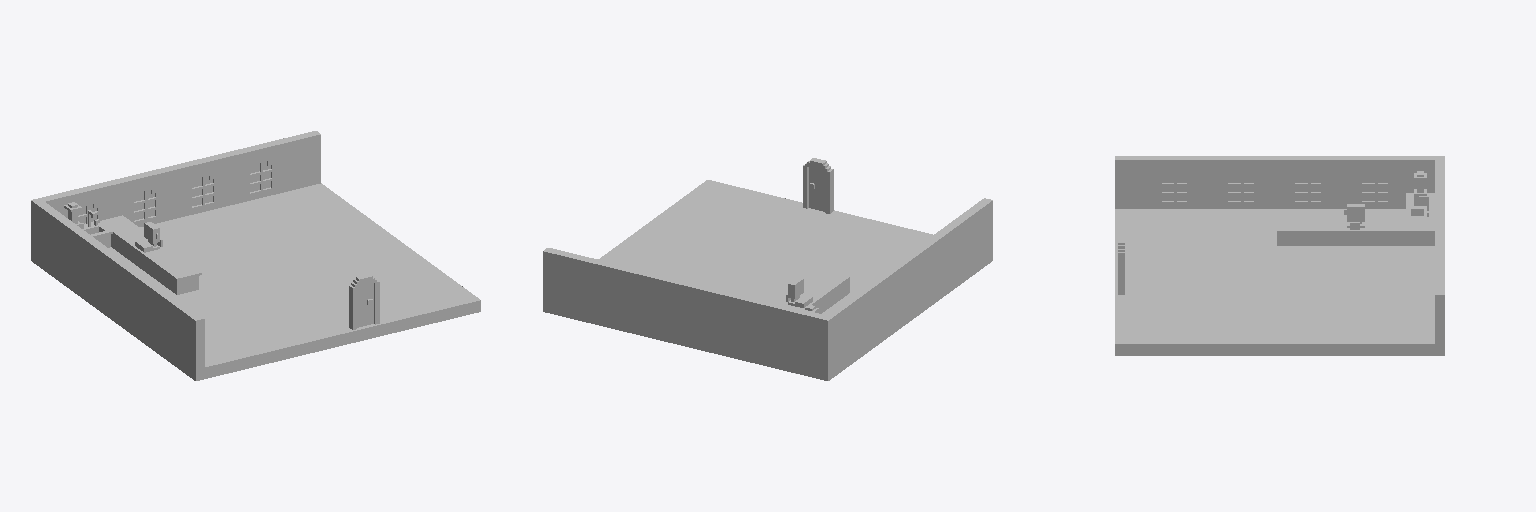
The model's file is restaurant_pop.obj.
The picture shows the model from 3 angles: view 1: azimuth 30°, elevation 25°; view 2: azimuth 150°, elevation 25°; view 3: azimuth 270°, elevation 25°; orthographic projection.
Visible parts, largest first — view 1: restaurant example_1_pop; view 2: restaurant example_1_pop; view 3: restaurant example_1_pop.
Part boxes in pixels (left/top/right/bottom): restaurant example_1_pop: left=31, top=131, right=480, bottom=380; restaurant example_1_pop: left=543, top=158, right=992, bottom=380; restaurant example_1_pop: left=1115, top=156, right=1444, bottom=355.
Bounding box in the file's own units: 128 × 26 × 128.